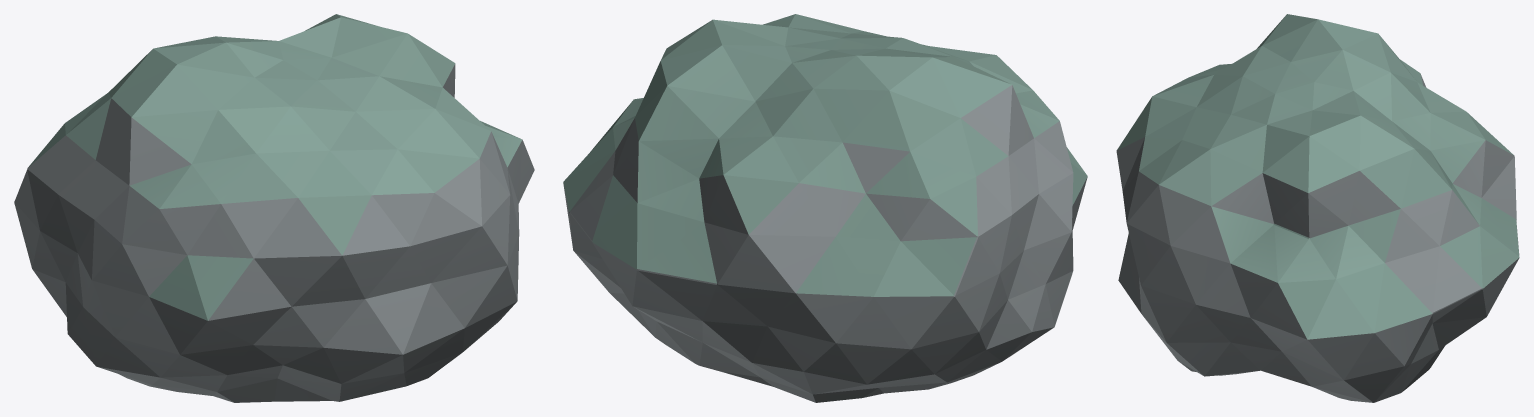
File: rock_mossy_a.glb
3 renders of one model, left to right at view 1: azimuth 30°, elevation 25°; view 2: azimuth 150°, elevation 25°; view 3: azimuth 270°, elevation 25°, orthographic. The views are drawn at different scales.
Bounding box in the file's own units: 2.06 × 1.3 × 1.73.
